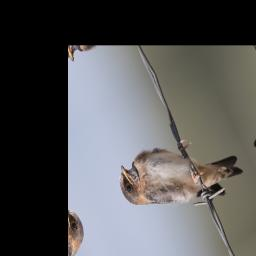Swallow: (111, 102, 248, 250)
